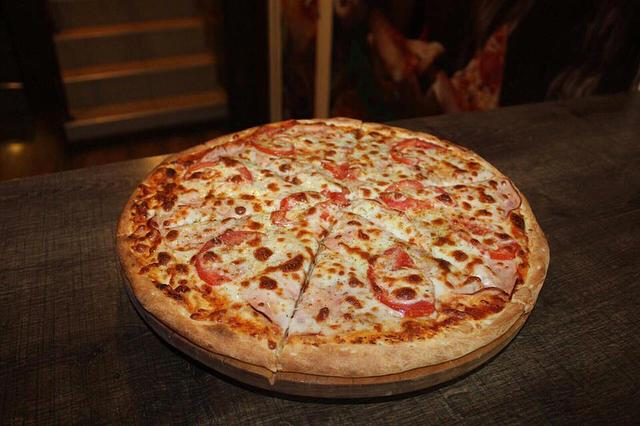Pizza: (116, 117, 547, 377)
Tomatoes: (367, 245, 435, 317), (195, 229, 266, 287), (279, 189, 333, 226), (390, 137, 448, 167), (184, 161, 253, 183), (382, 179, 429, 209), (251, 133, 298, 155)
